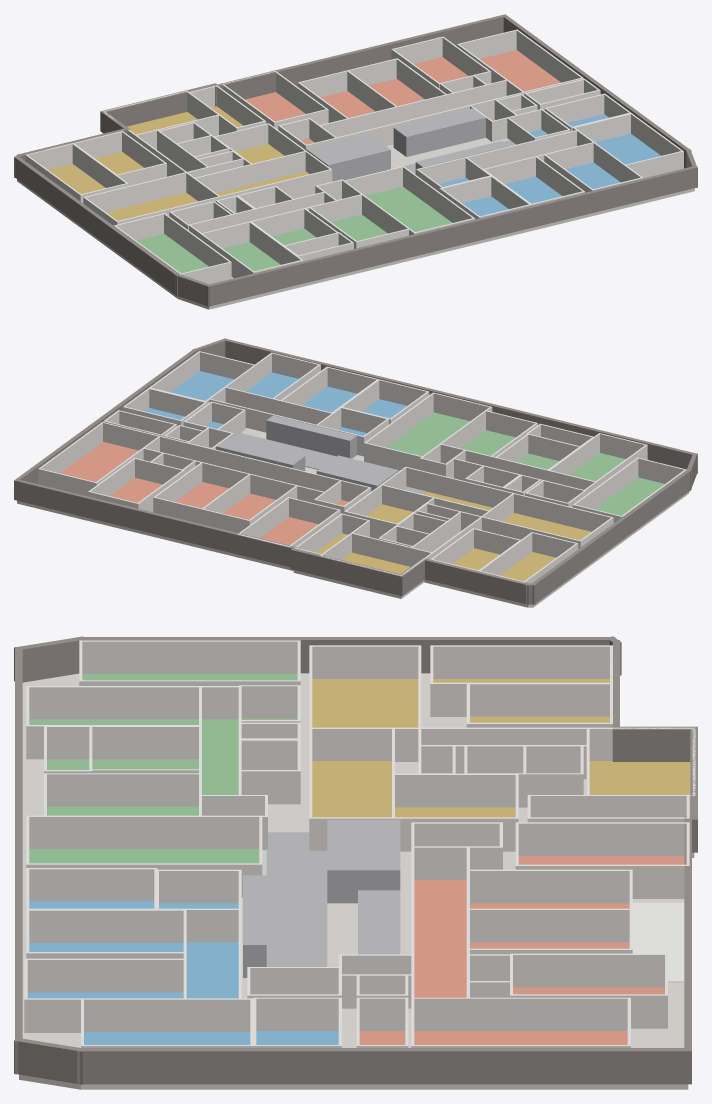
The model's file is floor_AB.glb.
3 renders of one model, top to bottom at view 1: azimuth 30°, elevation 25°; view 2: azimuth 150°, elevation 25°; view 3: azimuth 270°, elevation 25°, orthographic. The views are drawn at different scales.
Parts seen in each view (by area): view 1: Mur, Facade, Noyau, Sol_F4C, Sol_F4A, Sol_F4D, Sol_F4B, Dalle; view 2: Mur, Facade, Noyau, Sol_F4C, Sol_F4A, Sol_F4D, Sol_F4B, Dalle; view 3: Mur, Facade, Noyau, Dalle, Sol_F4D, Sol_F4A, Sol_F4C, Sol_F4B, Balcon.
Boxes of the visible parts, x1,y1,x2,y2 form: Mur: [25, 29, 683, 284]; Facade: [14, 14, 697, 306]; Noyau: [306, 108, 515, 194]; Sol_F4C: [136, 187, 451, 273]; Sol_F4A: [245, 50, 560, 144]; Sol_F4D: [48, 106, 309, 220]; Sol_F4B: [439, 114, 660, 216]; Dalle: [17, 138, 694, 309]; Mur: [38, 351, 686, 583]; Facade: [14, 338, 697, 604]; Noyau: [216, 415, 425, 494]; Sol_F4C: [386, 412, 664, 515]; Sol_F4A: [60, 442, 348, 545]; Sol_F4D: [316, 491, 591, 581]; Sol_F4B: [145, 371, 406, 435]; Dalle: [17, 428, 689, 607]; Mur: [24, 640, 695, 1047]; Facade: [14, 636, 697, 1084]; Noyau: [243, 819, 400, 977]; Dalle: [19, 673, 694, 1089]; Sol_F4D: [312, 679, 690, 817]; Sol_F4A: [359, 856, 684, 1044]; Sol_F4C: [29, 674, 297, 863]; Sol_F4B: [27, 901, 338, 1044]; Balcon: [632, 902, 684, 982].
Size of the model in its own units: 32.31 by 1.45 by 22.48.
